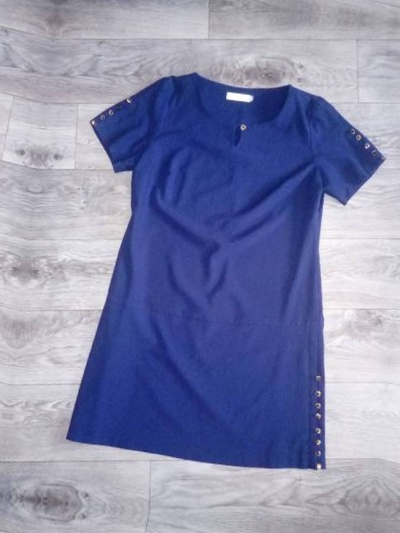Dress: (30, 21, 400, 498), (0, 0, 28, 451), (379, 63, 400, 533)
